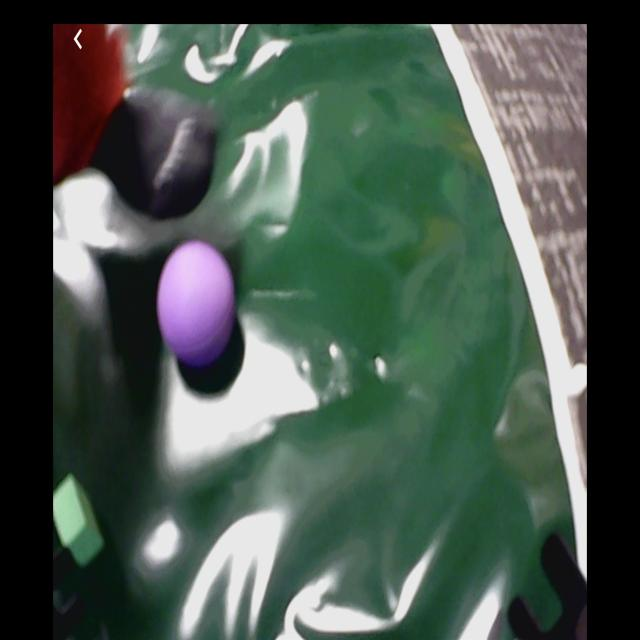ball: (159, 242, 235, 362)
